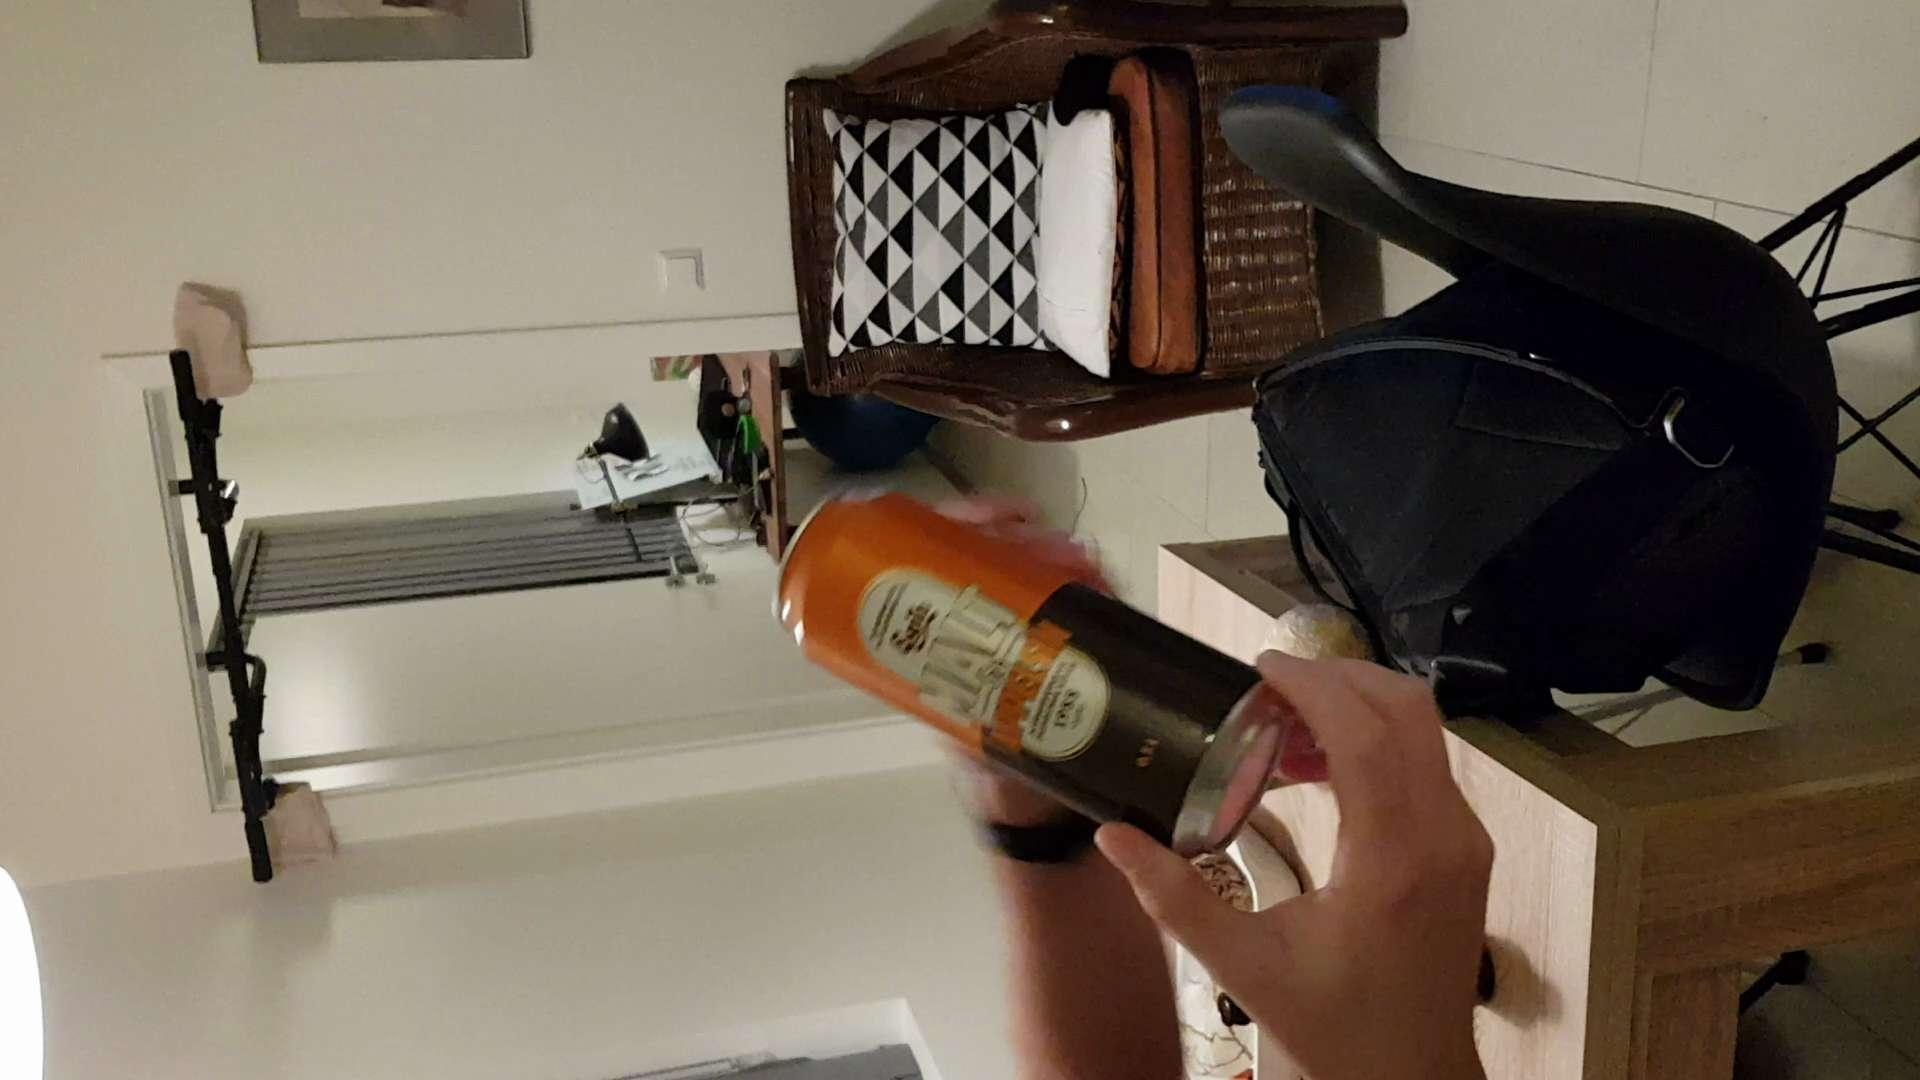Can: (770, 476, 1290, 861)
